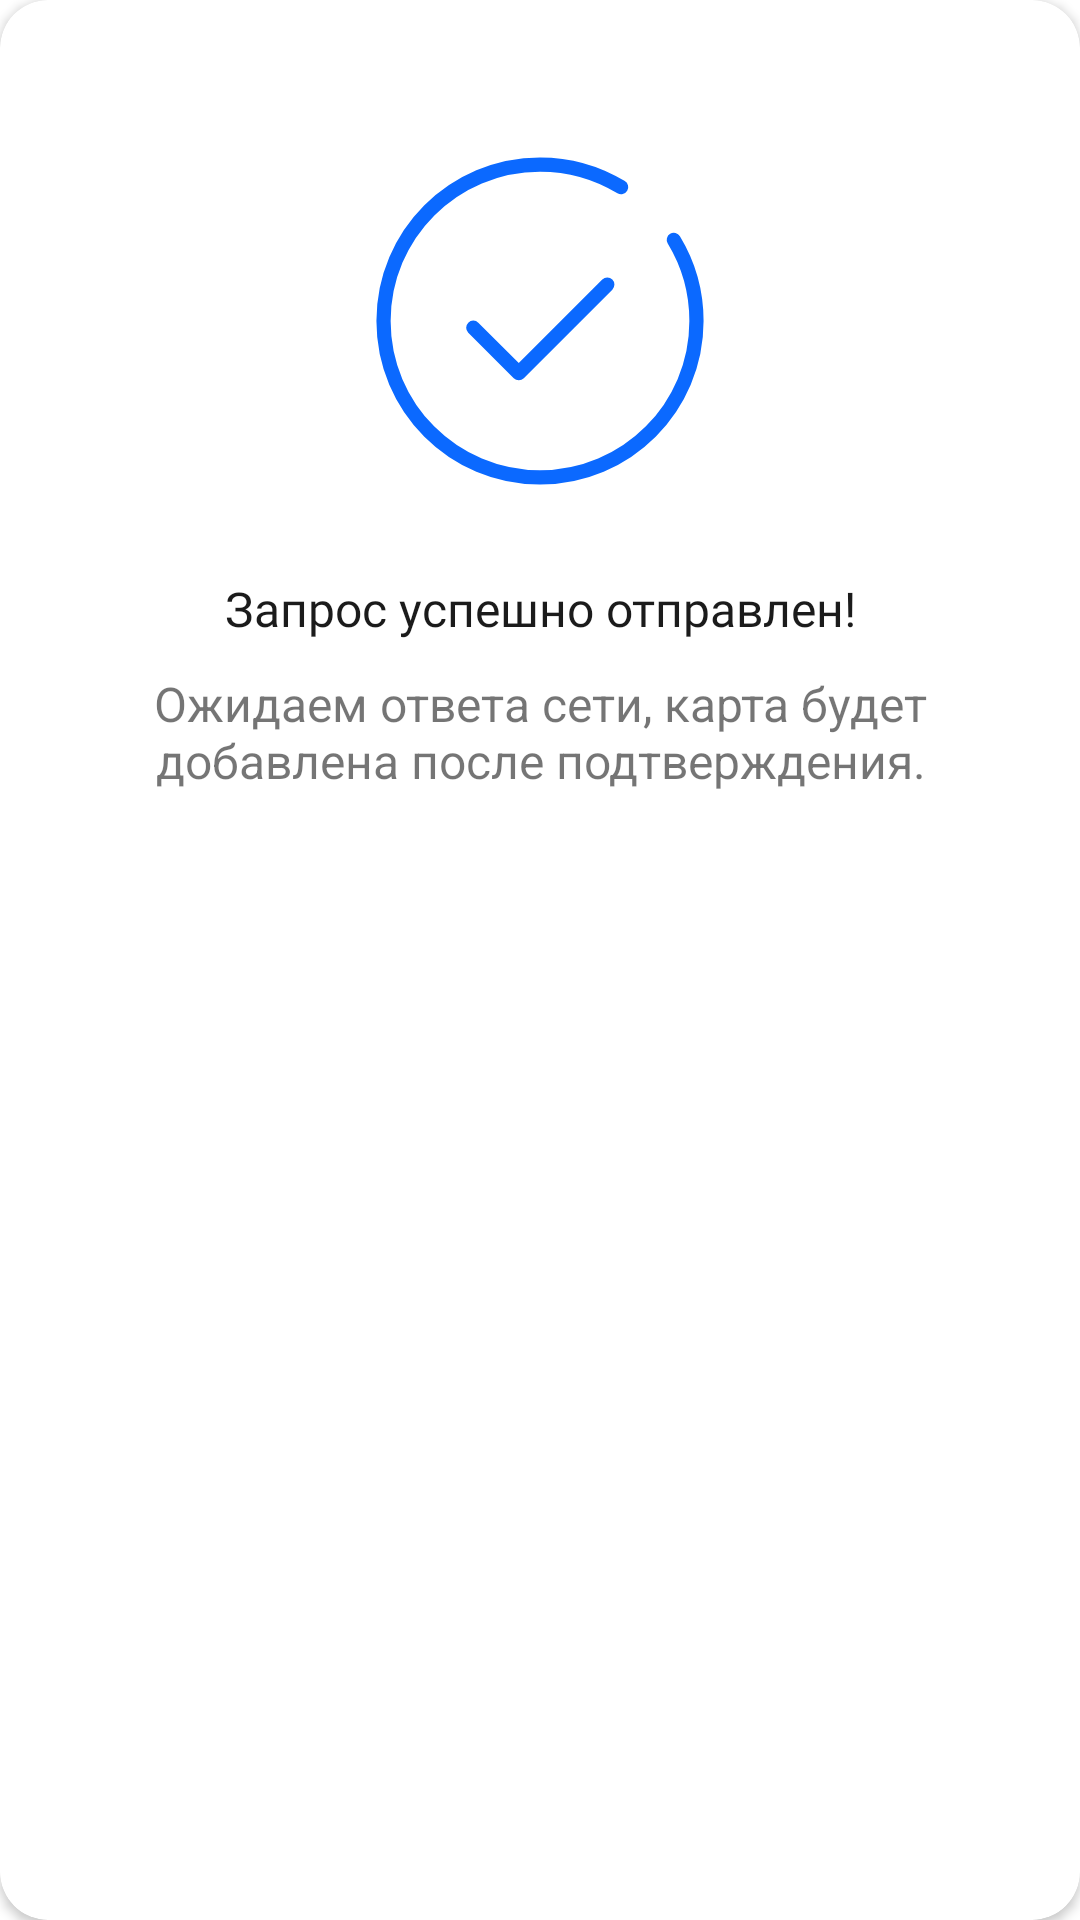

Named icons in this screenshot (1080x1920) and their bounding boxes, (x1, y1, x2, y2):
done: (376, 157, 704, 485)
